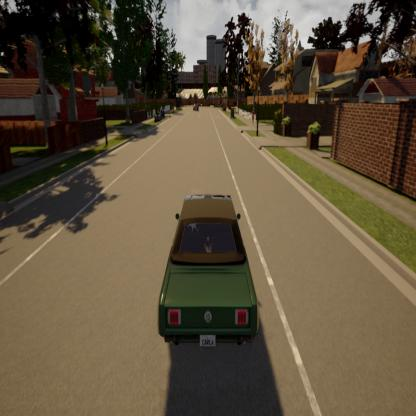Cars: (158, 193, 258, 348), (193, 101, 199, 110)
Pedestrian: (251, 104, 256, 124)
